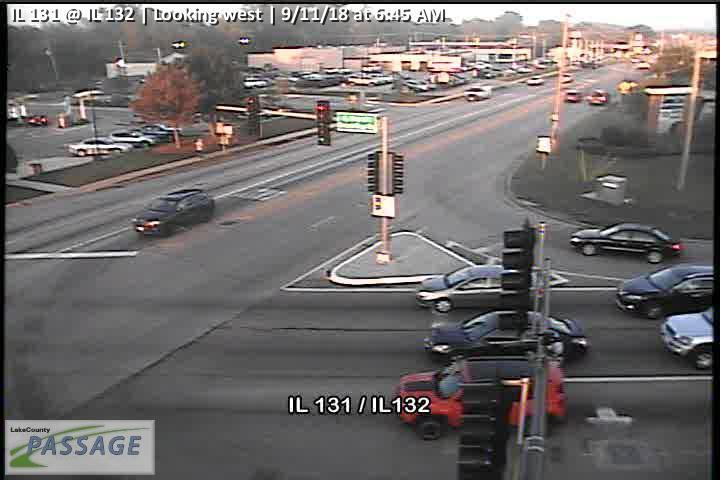Sedan: (393, 358, 566, 443), (423, 306, 590, 361), (416, 264, 527, 314), (615, 264, 717, 316), (568, 222, 684, 263), (132, 188, 213, 237), (66, 135, 131, 157), (109, 129, 161, 151), (344, 74, 382, 87), (398, 77, 430, 90)
